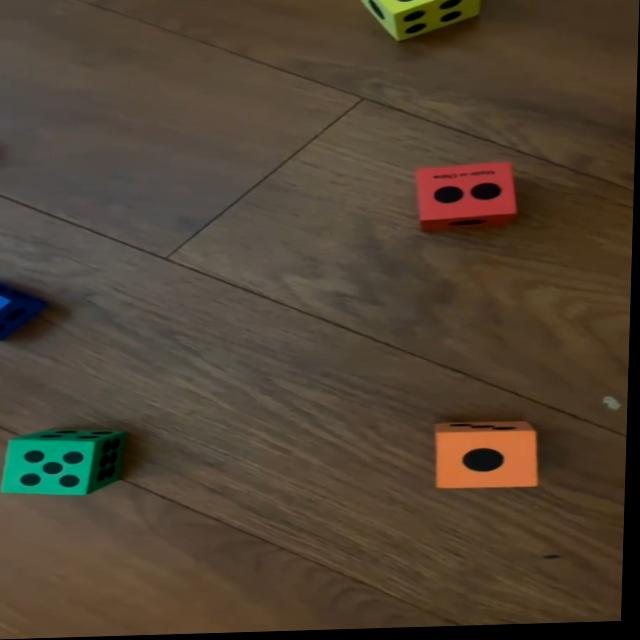blue_block: (0, 282, 47, 341)
red_block: (417, 164, 519, 235)
